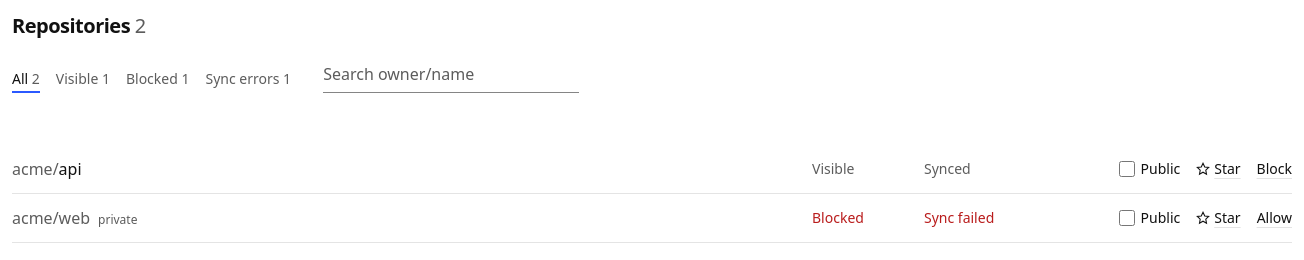
RepoAccessManager › blocks a repo and announces it
Step 1. Click the button with aria-label "Block acme/api" → click(1274, 169), box [1257,159,1292,179]
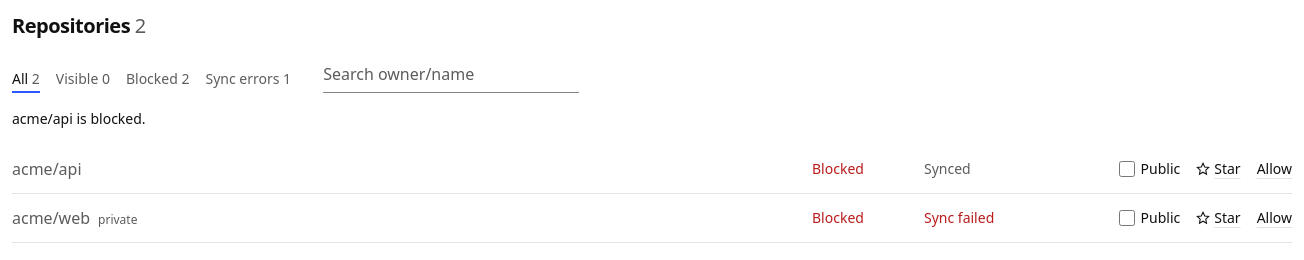
Check: the text "acme/api is blocked." is shown, box [12,109,146,128]
Check: the button with aria-label "Allow acme/api" is shown, box [1257,159,1292,179]
